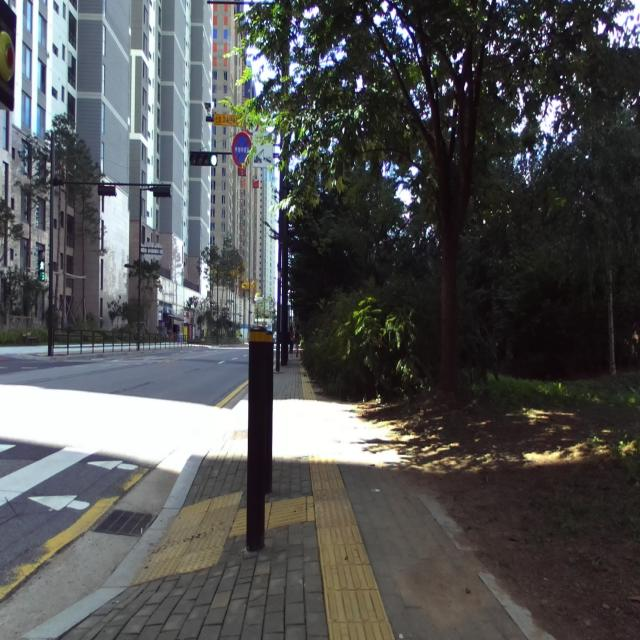초록불: (38, 250, 45, 281)
횡단보도: (0, 440, 145, 527)
